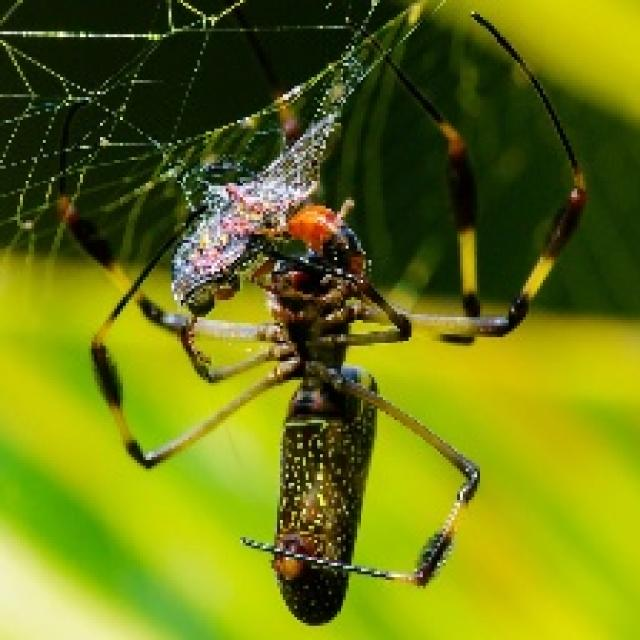Non venomous spider: (5, 33, 612, 640)
